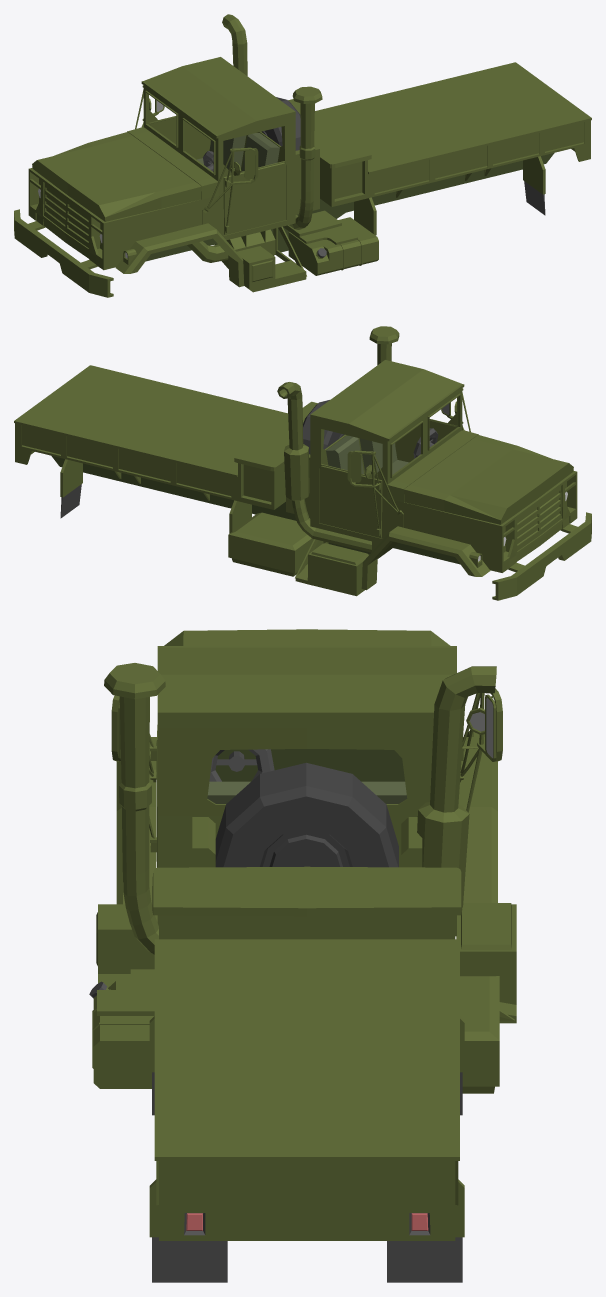
3 renders of one model, top to bottom at view 1: azimuth 30°, elevation 25°; view 2: azimuth 150°, elevation 25°; view 3: azimuth 270°, elevation 25°, orthographic. The views are drawn at different scales.
Visible parts, largest first — view 1: Main; view 2: Main; view 3: Main, steering_wheel.
Boxes of the visible parts, left/top/right/bottom form: Main: left=14, top=14, right=591, bottom=297; Main: left=14, top=326, right=591, bottom=600; Main: left=89, top=629, right=516, bottom=1282; steering_wheel: left=209, top=749, right=274, bottom=781.
Size of the model in its own units: 7.24 by 2.69 by 2.67.
